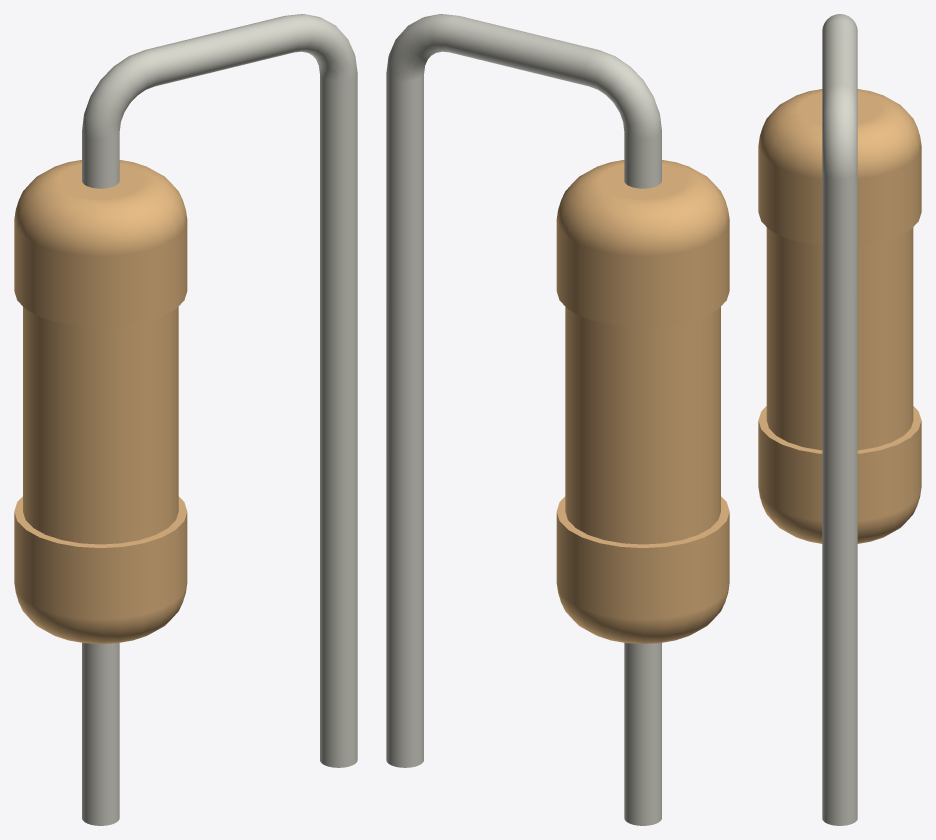
Rendered from Resistor_THT__R_Axial_DIN0309_L9.0mm_D3.2mm_P5.08mm_Vertical.glb.
3 renders of one model, left to right at view 1: azimuth 30°, elevation 25°; view 2: azimuth 150°, elevation 25°; view 3: azimuth 270°, elevation 25°, orthographic. The views are drawn at different scales.
Parts seen in each view (by area): view 1: R_Axial_DIN0309_L90mm_D32mm_P508mm_Vertical; view 2: R_Axial_DIN0309_L90mm_D32mm_P508mm_Vertical; view 3: R_Axial_DIN0309_L90mm_D32mm_P508mm_Vertical.
Boxes of the visible parts, x1,y1,x2,y2 form: R_Axial_DIN0309_L90mm_D32mm_P508mm_Vertical: (14, 14, 357, 825); R_Axial_DIN0309_L90mm_D32mm_P508mm_Vertical: (386, 14, 729, 825); R_Axial_DIN0309_L90mm_D32mm_P508mm_Vertical: (758, 14, 921, 825).
Bounding box in the file's own units: 0.00703 × 0.0154 × 0.0032.
